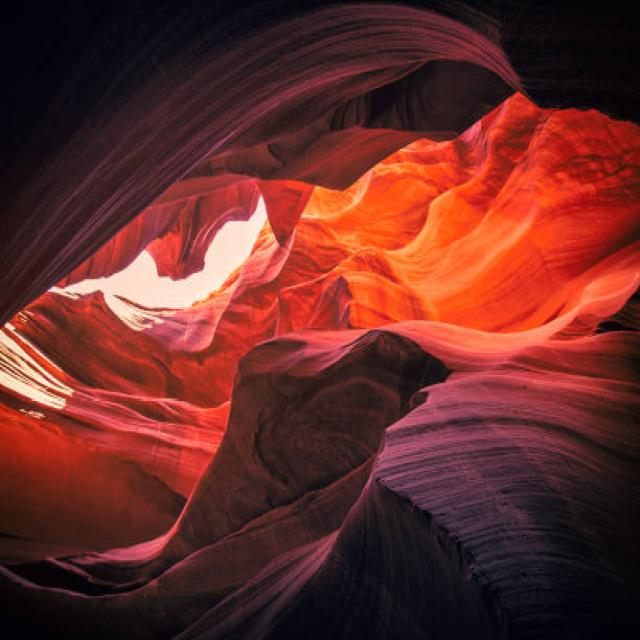Sedimentary: (2, 2, 640, 635)
